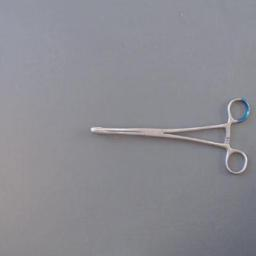Sponge Forceps: (88, 95, 252, 177)
